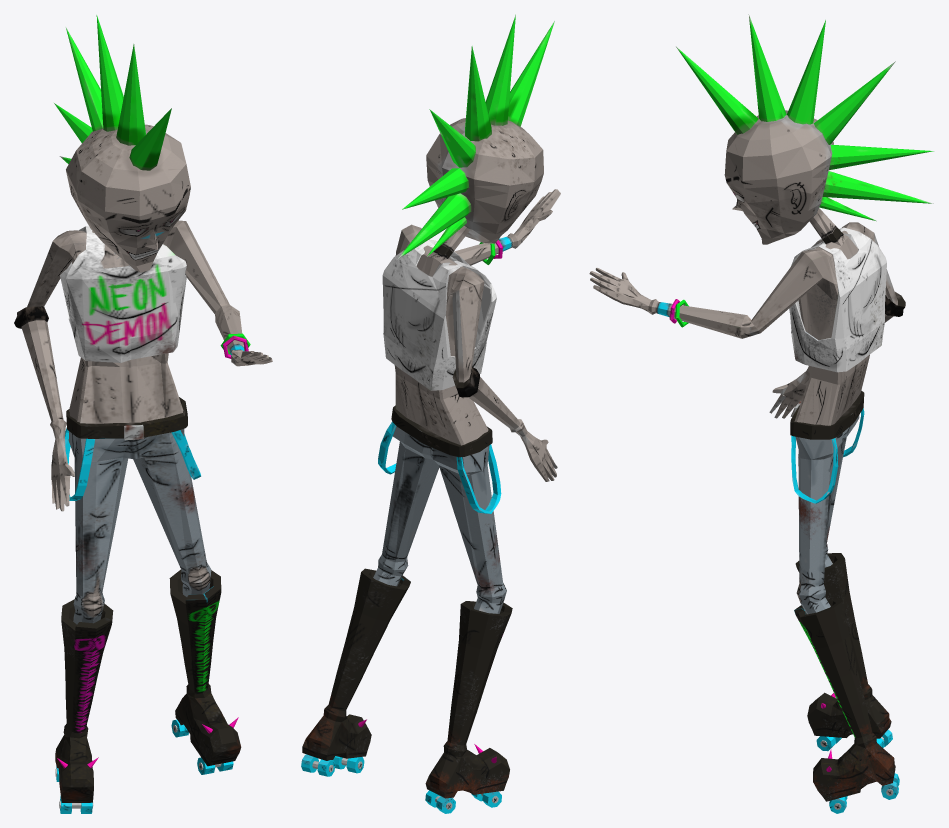
Rendered from punkAnimation_000024.obj.
3 views of the same model, side by side, from view 1: azimuth 30°, elevation 25°; view 2: azimuth 150°, elevation 25°; view 3: azimuth 270°, elevation 25° (orthographic). The views are drawn at different scales.
Parts seen in each view (by area): view 1: Cube.004_Cube.003; view 2: Cube.004_Cube.003; view 3: Cube.004_Cube.003.
Boxes of the visible parts, x1,y1,x2,y2 form: Cube.004_Cube.003: (14,15,272,813); Cube.004_Cube.003: (301,14,560,813); Cube.004_Cube.003: (589,14,933,813).
Bounding box in the file's own units: 2.04 × 7.48 × 3.17.
